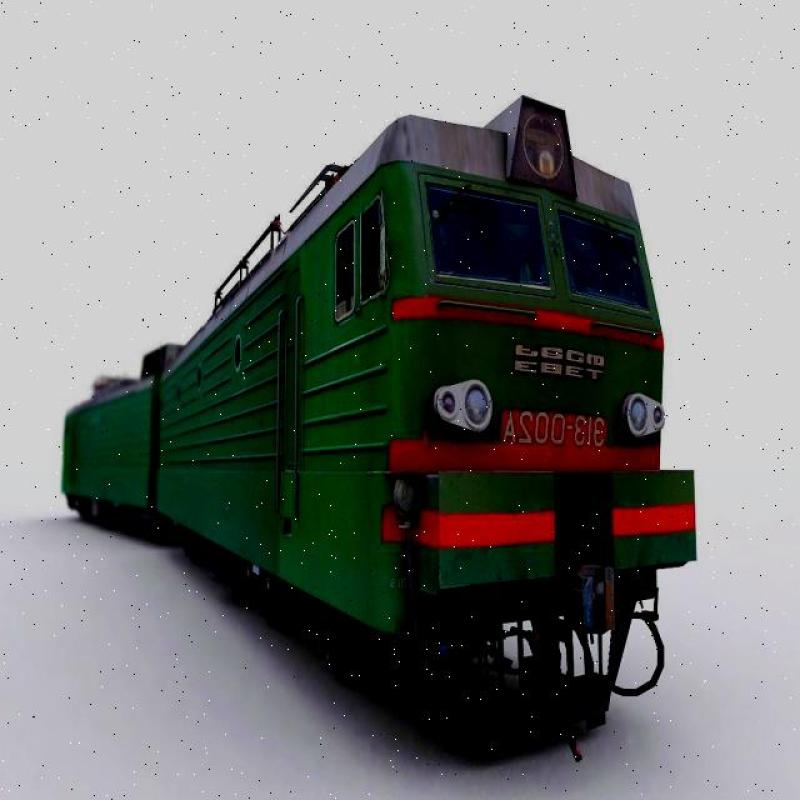train: (64, 99, 698, 739)
